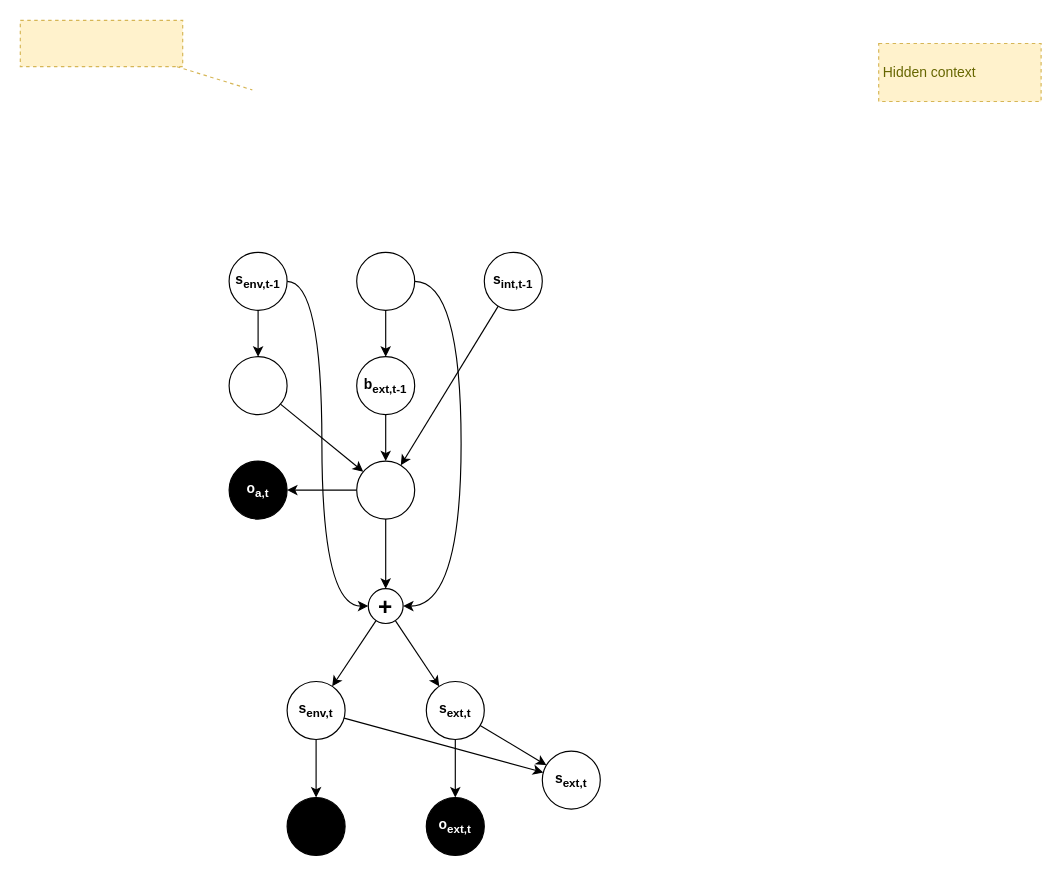
The diagram is 1061 pixels wide and 876 high, and some of its shapes have lost their labels. Each missing label, with the centre of its shape:
a ext,t-1: (385,489)
b env,t-1: (257,385)
Hierarchical latent variables: (101,43)
o env,t: (315,825)
s ext,t-1: (385,280)
